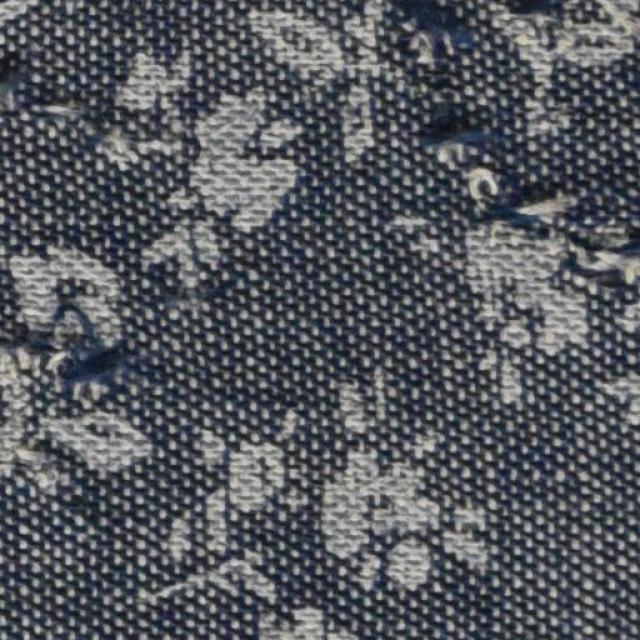Snag: (398, 1, 638, 307), (57, 318, 143, 408), (0, 58, 87, 131)
